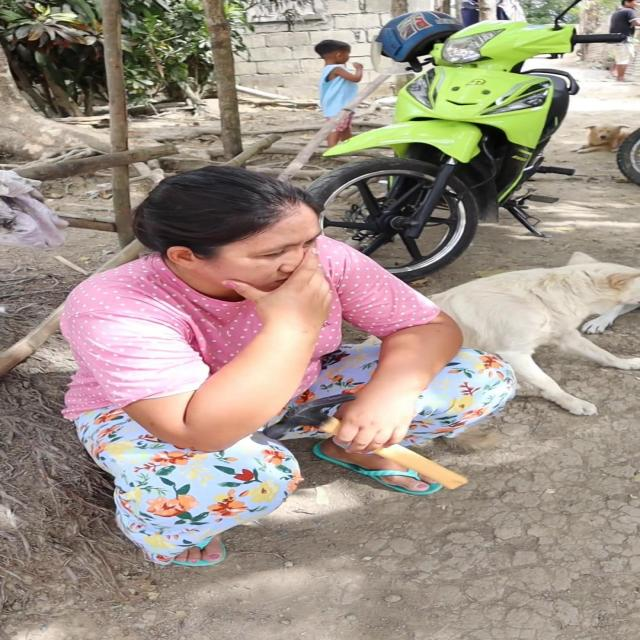hammer: (262, 394, 468, 491)
